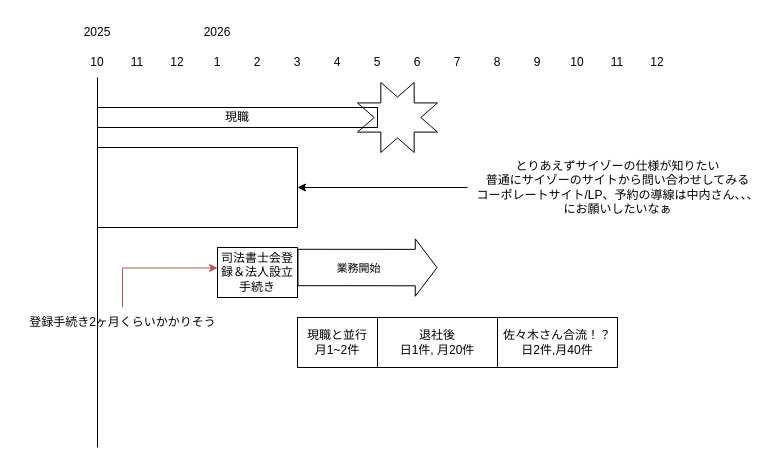
This 784x466 diagram has some shape labels left out. The shapes that lost their labels are listed below. From the top down, each one's box as (x1, y1, x2, y2) in pixels, then its label:
(356, 82, 438, 152): 退社
(96, 146, 298, 228): 業務プロセス構築 サイゾーの仕様調査 コーポレートサイト構築 LP作成
